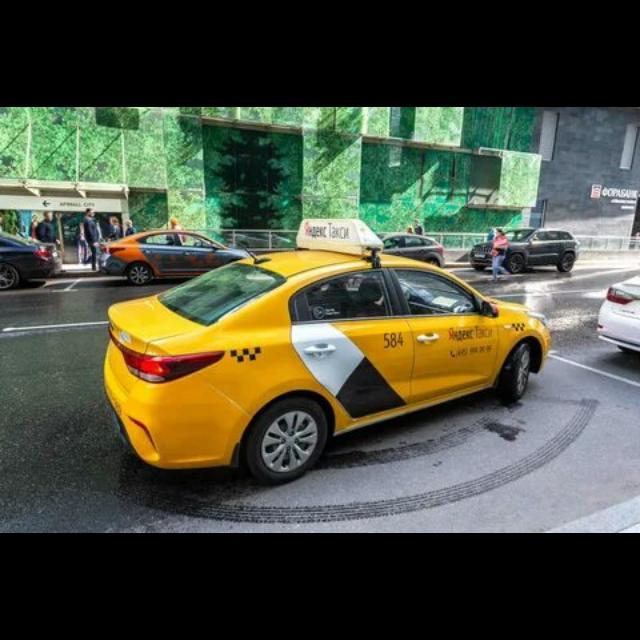taxi: (103, 217, 552, 485)
